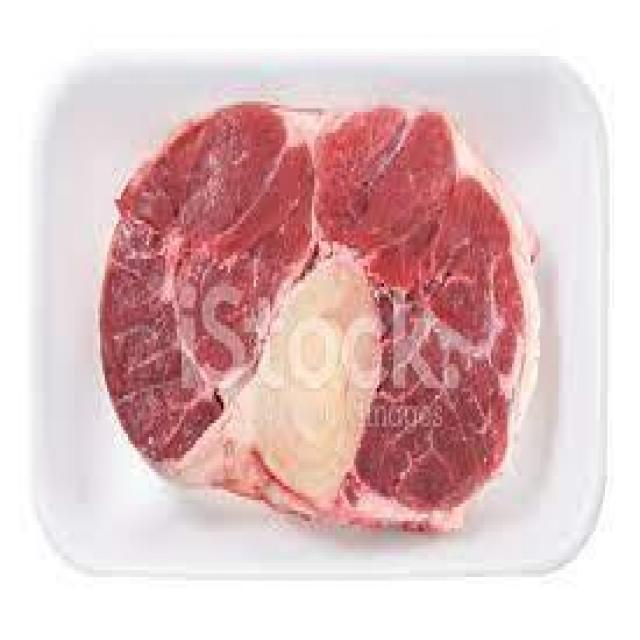beef: (119, 59, 559, 280)
